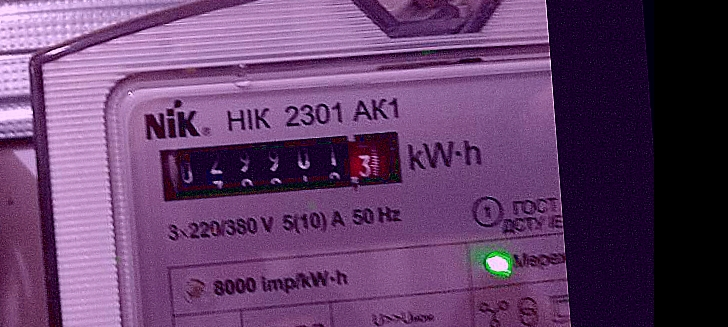0: (175, 156, 195, 185), (293, 142, 311, 172)
1: (324, 138, 339, 167)
2: (204, 148, 224, 177)
3: (354, 151, 373, 178)
9: (234, 146, 252, 174), (265, 145, 280, 173)
screen: (149, 120, 413, 212)
